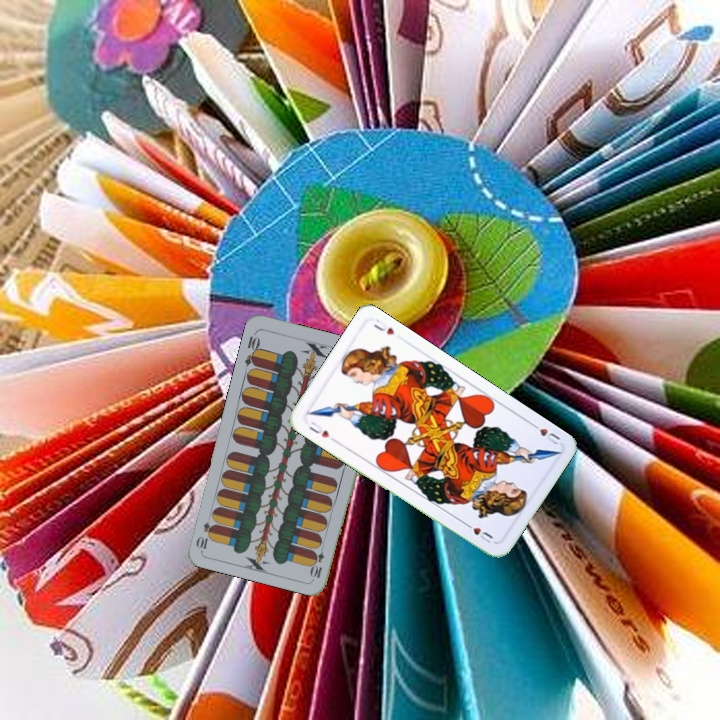E10: (241, 328, 263, 369), (308, 540, 327, 581)
HU: (526, 419, 563, 448), (305, 417, 332, 440)
